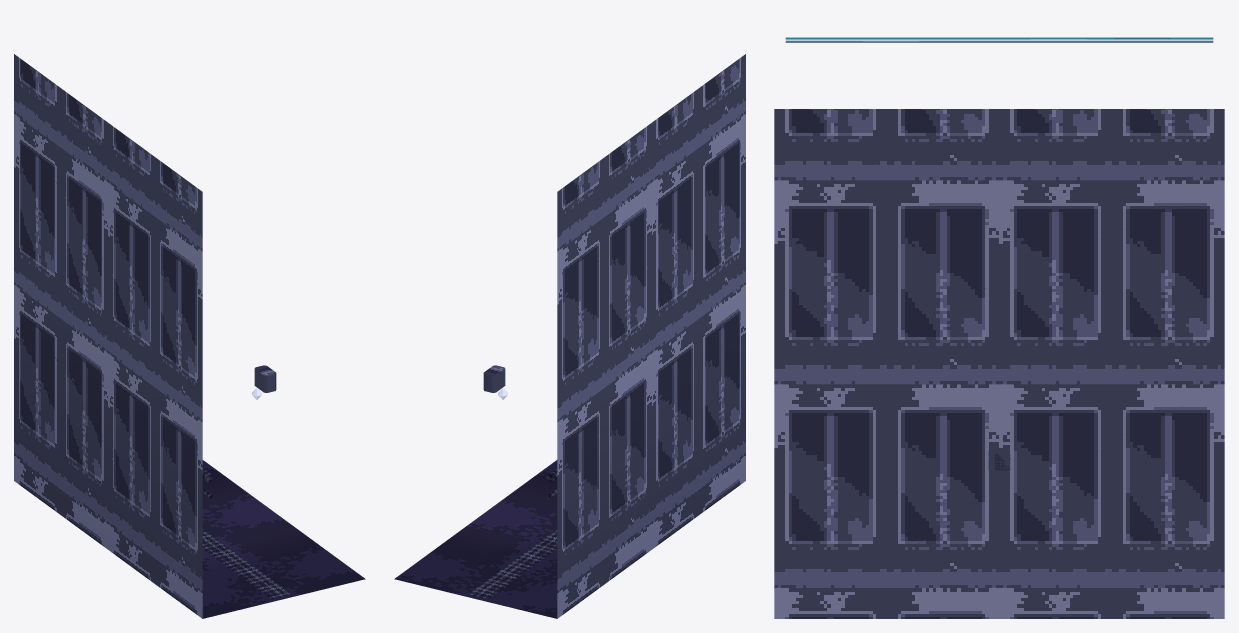
Rendered from cystreet.alley.glb.
3 views of the same model, side by side, from view 1: azimuth 30°, elevation 25°; view 2: azimuth 150°, elevation 25°; view 3: azimuth 270°, elevation 25° (orthographic). The views are drawn at different scales.
Parts seen in each view (by area): view 1: kit_shell_walls, kit_shell_ground, kit_pipes; view 2: kit_shell_walls, kit_shell_ground, kit_pipes; view 3: kit_shell_walls, kit_card_neon.
Part boxes in pixels (bbox=[...]): kit_shell_walls: bbox=[14, 54, 202, 618]; kit_shell_ground: bbox=[202, 460, 365, 618]; kit_pipes: bbox=[202, 365, 276, 499]; kit_shell_walls: bbox=[557, 54, 745, 618]; kit_shell_ground: bbox=[394, 460, 557, 618]; kit_pipes: bbox=[483, 365, 557, 499]; kit_shell_walls: bbox=[774, 109, 1224, 618]; kit_card_neon: bbox=[785, 37, 1213, 42].
Size of the model in its own units: 4 by 10 by 8.
5 materials, 5 textured.
